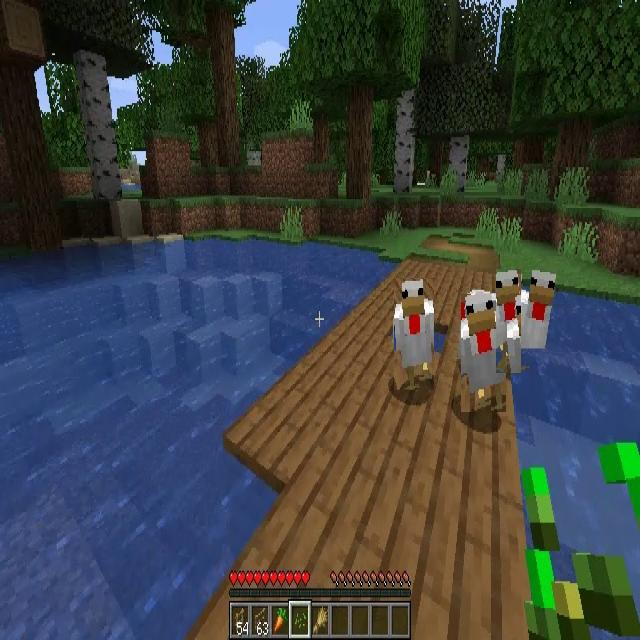duck: (461, 294, 506, 412), (394, 278, 434, 390), (519, 272, 558, 358), (496, 269, 521, 373)
